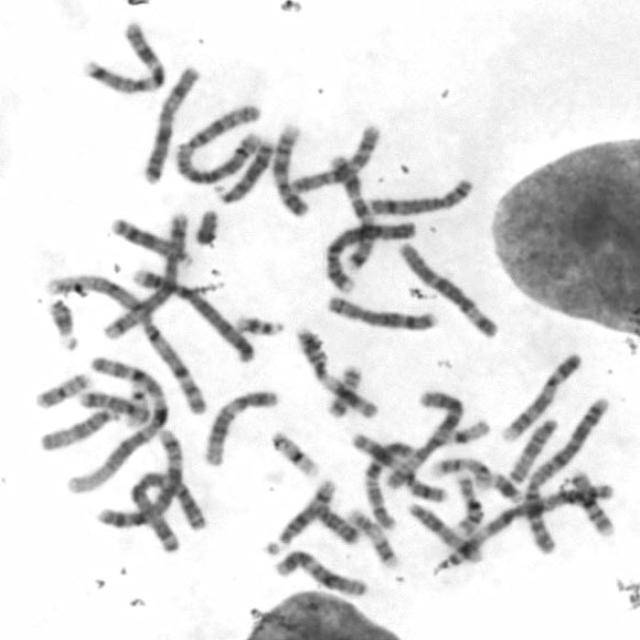A1: (42, 268, 212, 416), (65, 352, 170, 495)
A2: (520, 394, 612, 555), (171, 99, 264, 187)
A3: (449, 484, 625, 570), (122, 467, 212, 554)
B4: (127, 262, 255, 365), (320, 216, 419, 295)
B5: (99, 208, 193, 342), (95, 424, 185, 529)
C10: (287, 120, 382, 195), (361, 438, 416, 530)
C11: (290, 324, 380, 421), (348, 430, 448, 504)
C12: (200, 386, 280, 466), (268, 546, 369, 599)
C6: (396, 237, 500, 340), (380, 386, 466, 491)
C7: (78, 19, 168, 96), (324, 153, 382, 271)
C8: (362, 174, 476, 217), (322, 291, 438, 332)
C9: (497, 349, 582, 443), (269, 119, 310, 218)
D13: (210, 132, 274, 205), (106, 214, 193, 267)
D14: (262, 477, 338, 558), (406, 499, 488, 565)
D15: (36, 405, 120, 453), (504, 413, 560, 484)
E16: (567, 467, 616, 537), (450, 472, 484, 536)
E17: (343, 505, 401, 569), (426, 454, 492, 492)
E18: (77, 390, 150, 423), (309, 500, 361, 545)
F19: (266, 427, 322, 479), (446, 415, 491, 445)
F20: (31, 369, 93, 409), (323, 362, 363, 418)
G21: (44, 294, 81, 351), (488, 468, 525, 504)
G22: (232, 310, 286, 337), (124, 378, 150, 432)
X: (138, 61, 201, 187)
Y: (191, 205, 221, 248)
